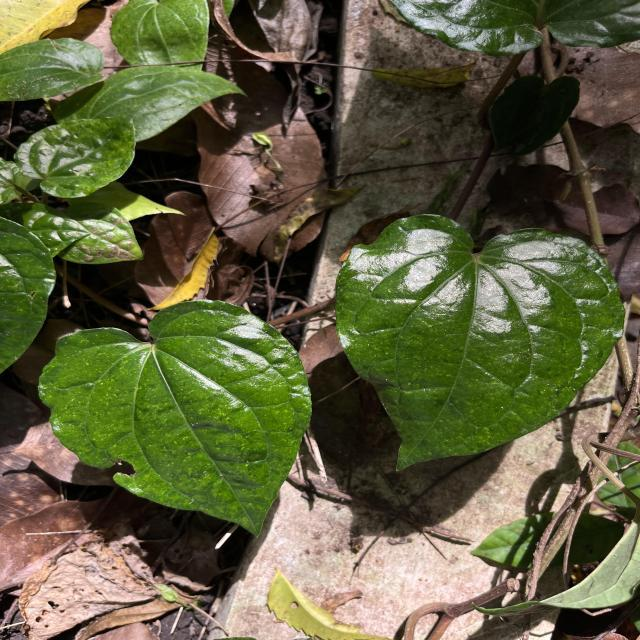Piper betle: (330, 209, 630, 476), (33, 296, 316, 542)
